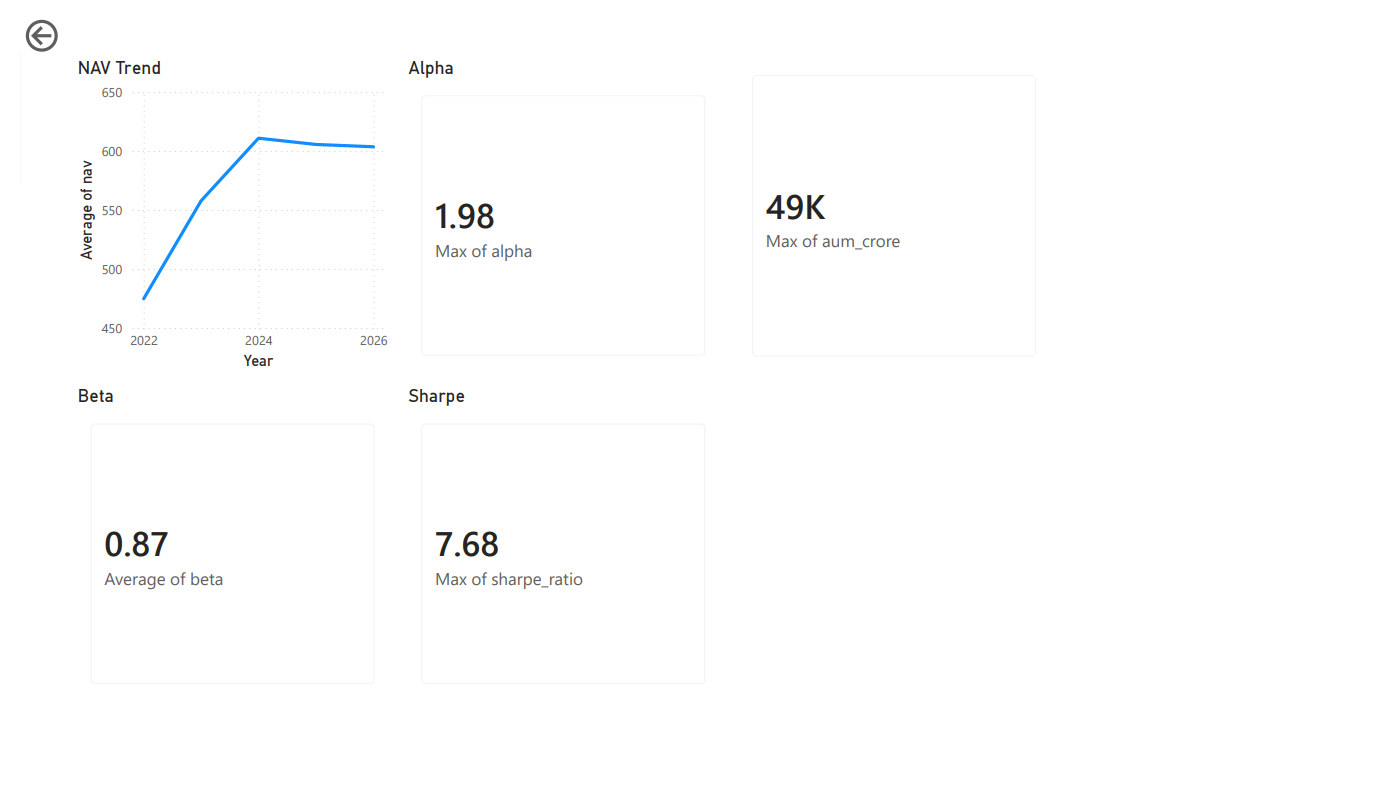

The page's visual inventory and layout, read from the dashboard file:
{"tool":"powerbi","page":{"name":"Fund Detail","canvas":[1280,720],"ordinal":4},"visuals":[{"type":"actionButton","box":[0,0,100,40],"z":0},{"type":"lineChart","title":"NAV Trend","fields":{"Category":["clean_nav_history.date.Variation.Date Hierarchy.Year","clean_nav_history.date.Variation.Date Hierarchy.Quarter","clean_nav_history.date.Variation.Date Hierarchy.Month","clean_nav_history.date.Variation.Date Hierarchy.Day"],"Y":["Avg(clean_nav_history.nav)"]},"box":[49.5,39.6,300.6,299.3],"z":1000},{"type":"cardVisual","title":"Beta","fields":{"Data":["Avg(clean_scheme_performance.beta)"]},"box":[49,349,301,299],"z":1001},{"type":"cardVisual","title":"Alpha","fields":{"Data":["Max(clean_scheme_performance.alpha)"]},"box":[360,40,301,299],"z":1002},{"type":"cardVisual","title":"Sharpe","fields":{"Data":["Max(clean_scheme_performance.sharpe_ratio)"]},"box":[360,349,301,299],"z":1003},{"type":"cardVisual","fields":{"Data":["Max(clean_scheme_performance.aum_crore)"]},"box":[671,40,301,299],"z":1004}]}

Visuals, with their boxes in screenshot pixels (x1, y1, x2, y2), scaled from the page's 1280x720 canvas onto the 1392x791 screenshot:
actionButton: bbox=[0, 0, 109, 44]
"NAV Trend" lineChart: bbox=[54, 44, 381, 372]
"Beta" cardVisual: bbox=[53, 383, 381, 712]
"Alpha" cardVisual: bbox=[391, 44, 719, 372]
"Sharpe" cardVisual: bbox=[391, 383, 719, 712]
cardVisual - Max(clean_scheme_performance.aum_crore): bbox=[730, 44, 1057, 372]
